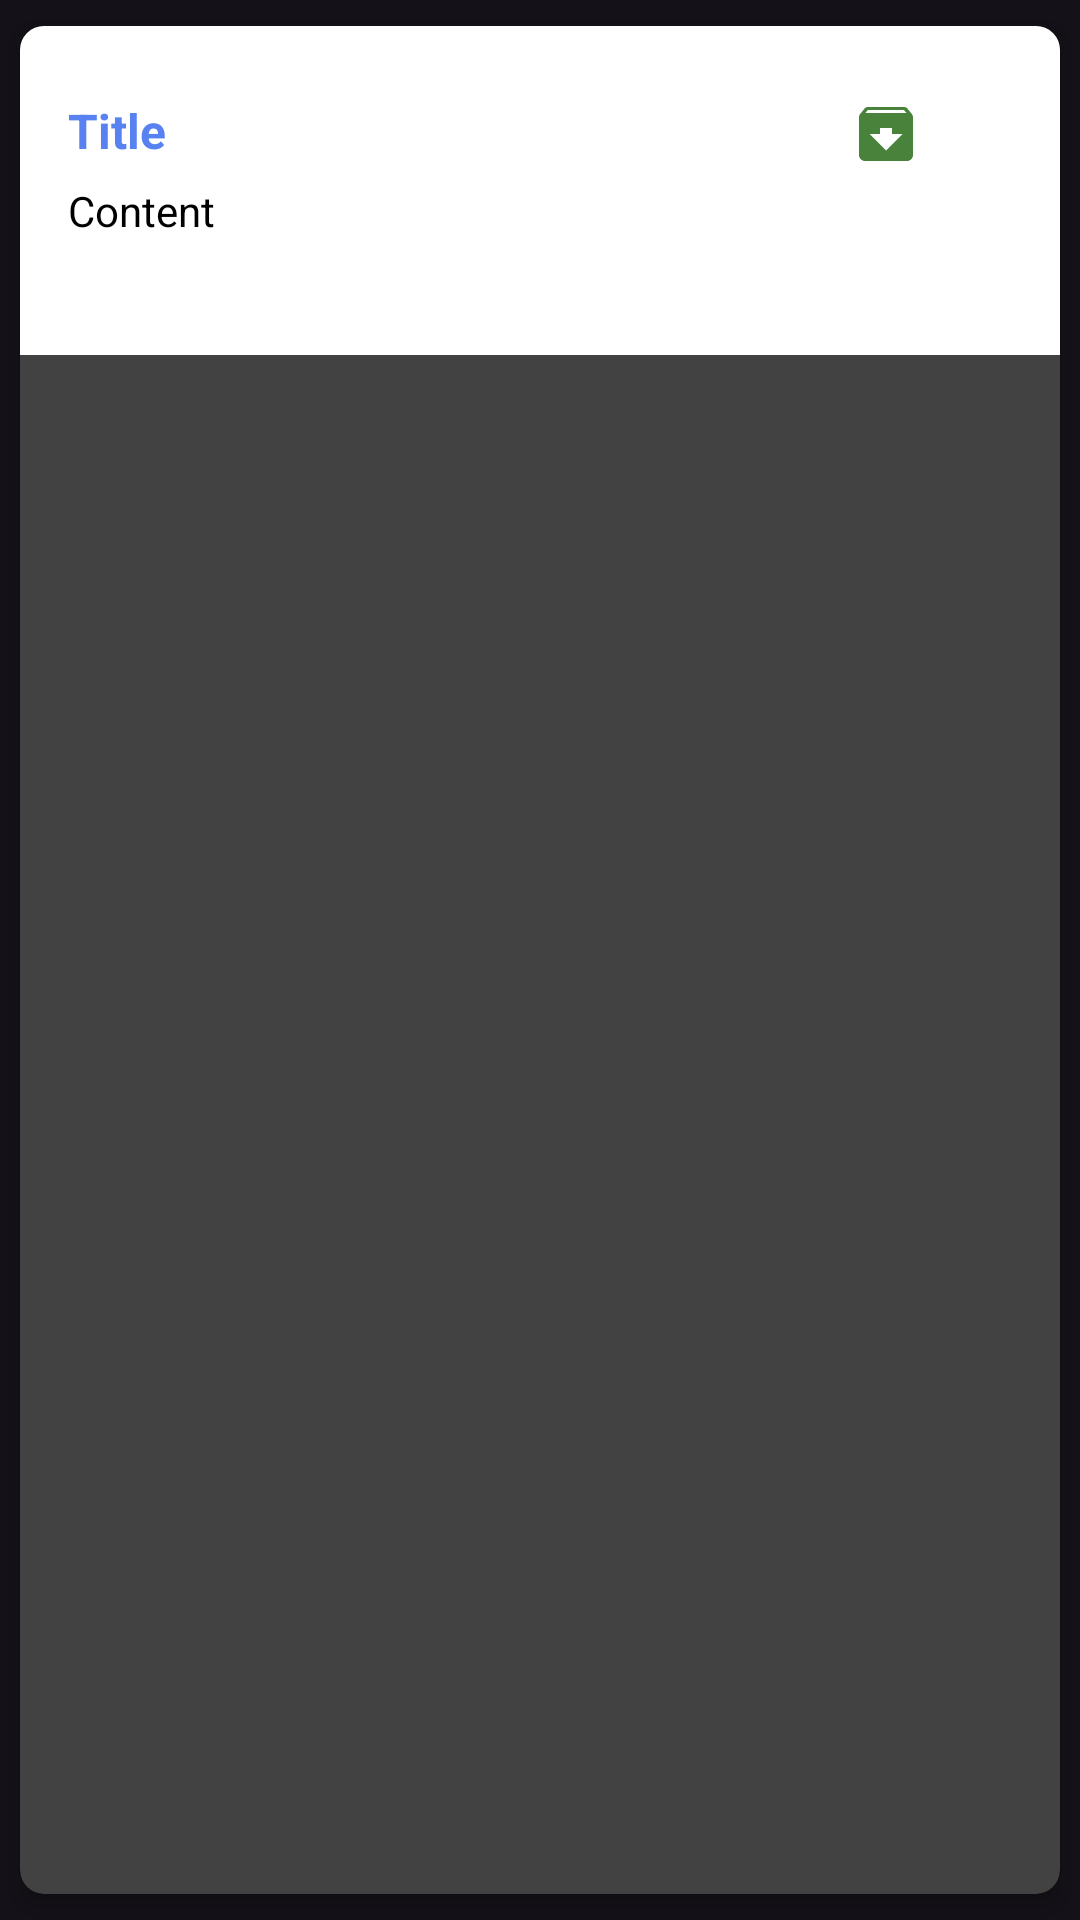

Named icons in this screenshot (1080 x 1920) and their centers, [x,y]:
archive: [886,134]
